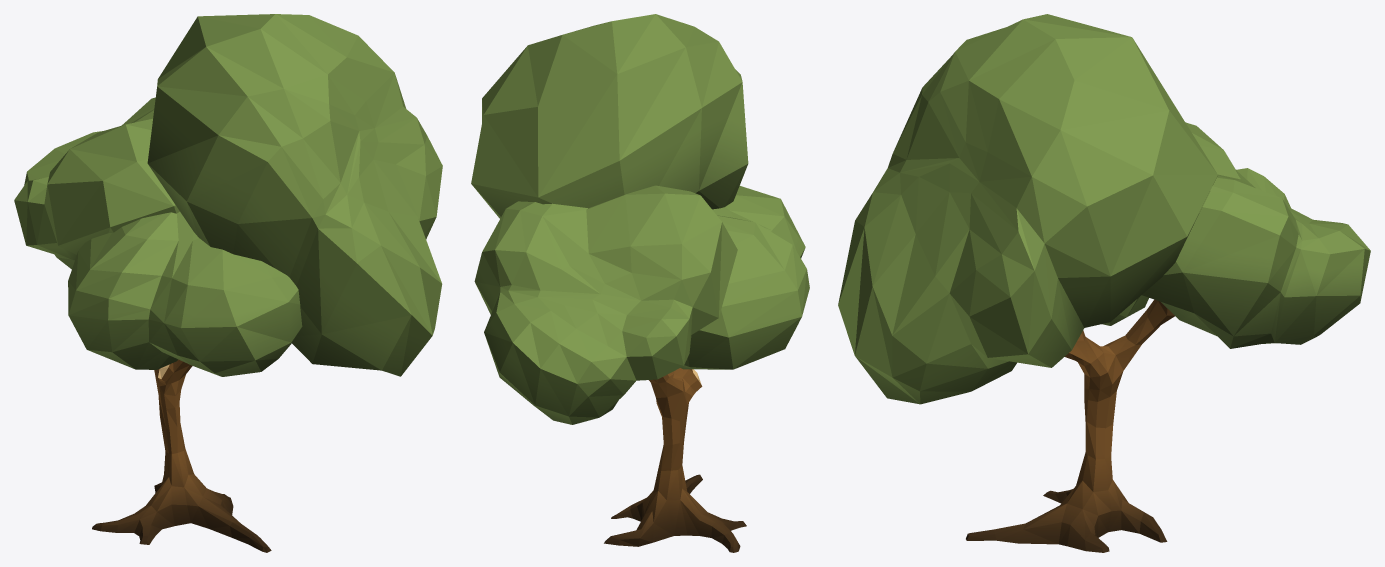
File: Tree-05.FBX
The picture shows the model from 3 angles, left to right: view 1: azimuth 30°, elevation 25°; view 2: azimuth 150°, elevation 25°; view 3: azimuth 270°, elevation 25°; orthographic projection. The views are drawn at different scales.
Parts seen in each view (by area): view 1: Tree-05; view 2: Tree-05; view 3: Tree-05.
Boxes of the visible parts, x1,y1,x2,y2 form: Tree-05: (14, 14, 442, 552); Tree-05: (471, 14, 809, 552); Tree-05: (838, 14, 1370, 552).
Bounding box in the file's own units: 847 × 1164 × 1055.
1 material, 1 textured.
